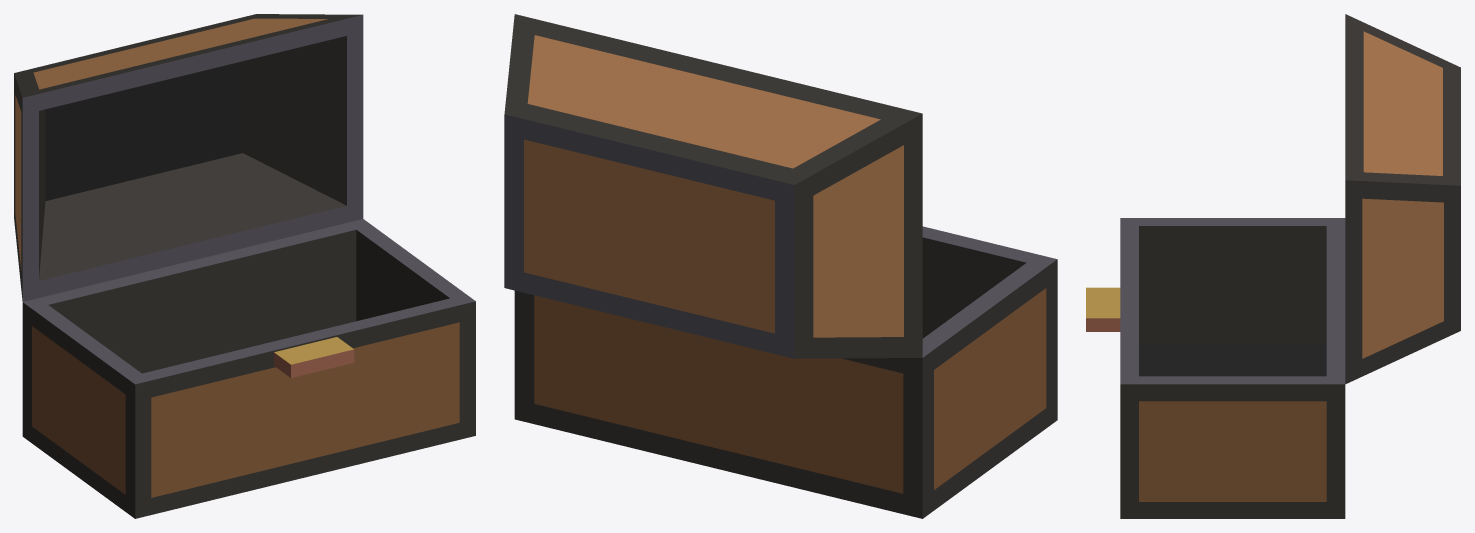
Rendered from TB_D_Prop_ChestA_Open_B.FBX.
3 renders of one model, left to right at view 1: azimuth 30°, elevation 25°; view 2: azimuth 150°, elevation 25°; view 3: azimuth 270°, elevation 25°, orthographic. The views are drawn at different scales.
Parts seen in each view (by area): view 1: TB_D_Prop_ChestA_Open_B; view 2: TB_D_Prop_ChestA_Open_B; view 3: TB_D_Prop_ChestA_Open_B.
Part boxes in pixels (<box>): TB_D_Prop_ChestA_Open_B: <box>14,14,475,518</box>; TB_D_Prop_ChestA_Open_B: <box>504,14,1057,518</box>; TB_D_Prop_ChestA_Open_B: <box>1086,14,1460,518</box>.
Size of the model in its own units: 1.05 by 0.9932 by 0.9965.
